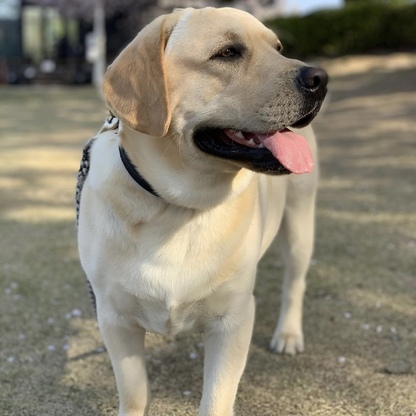labrado: (69, 3, 337, 413)
